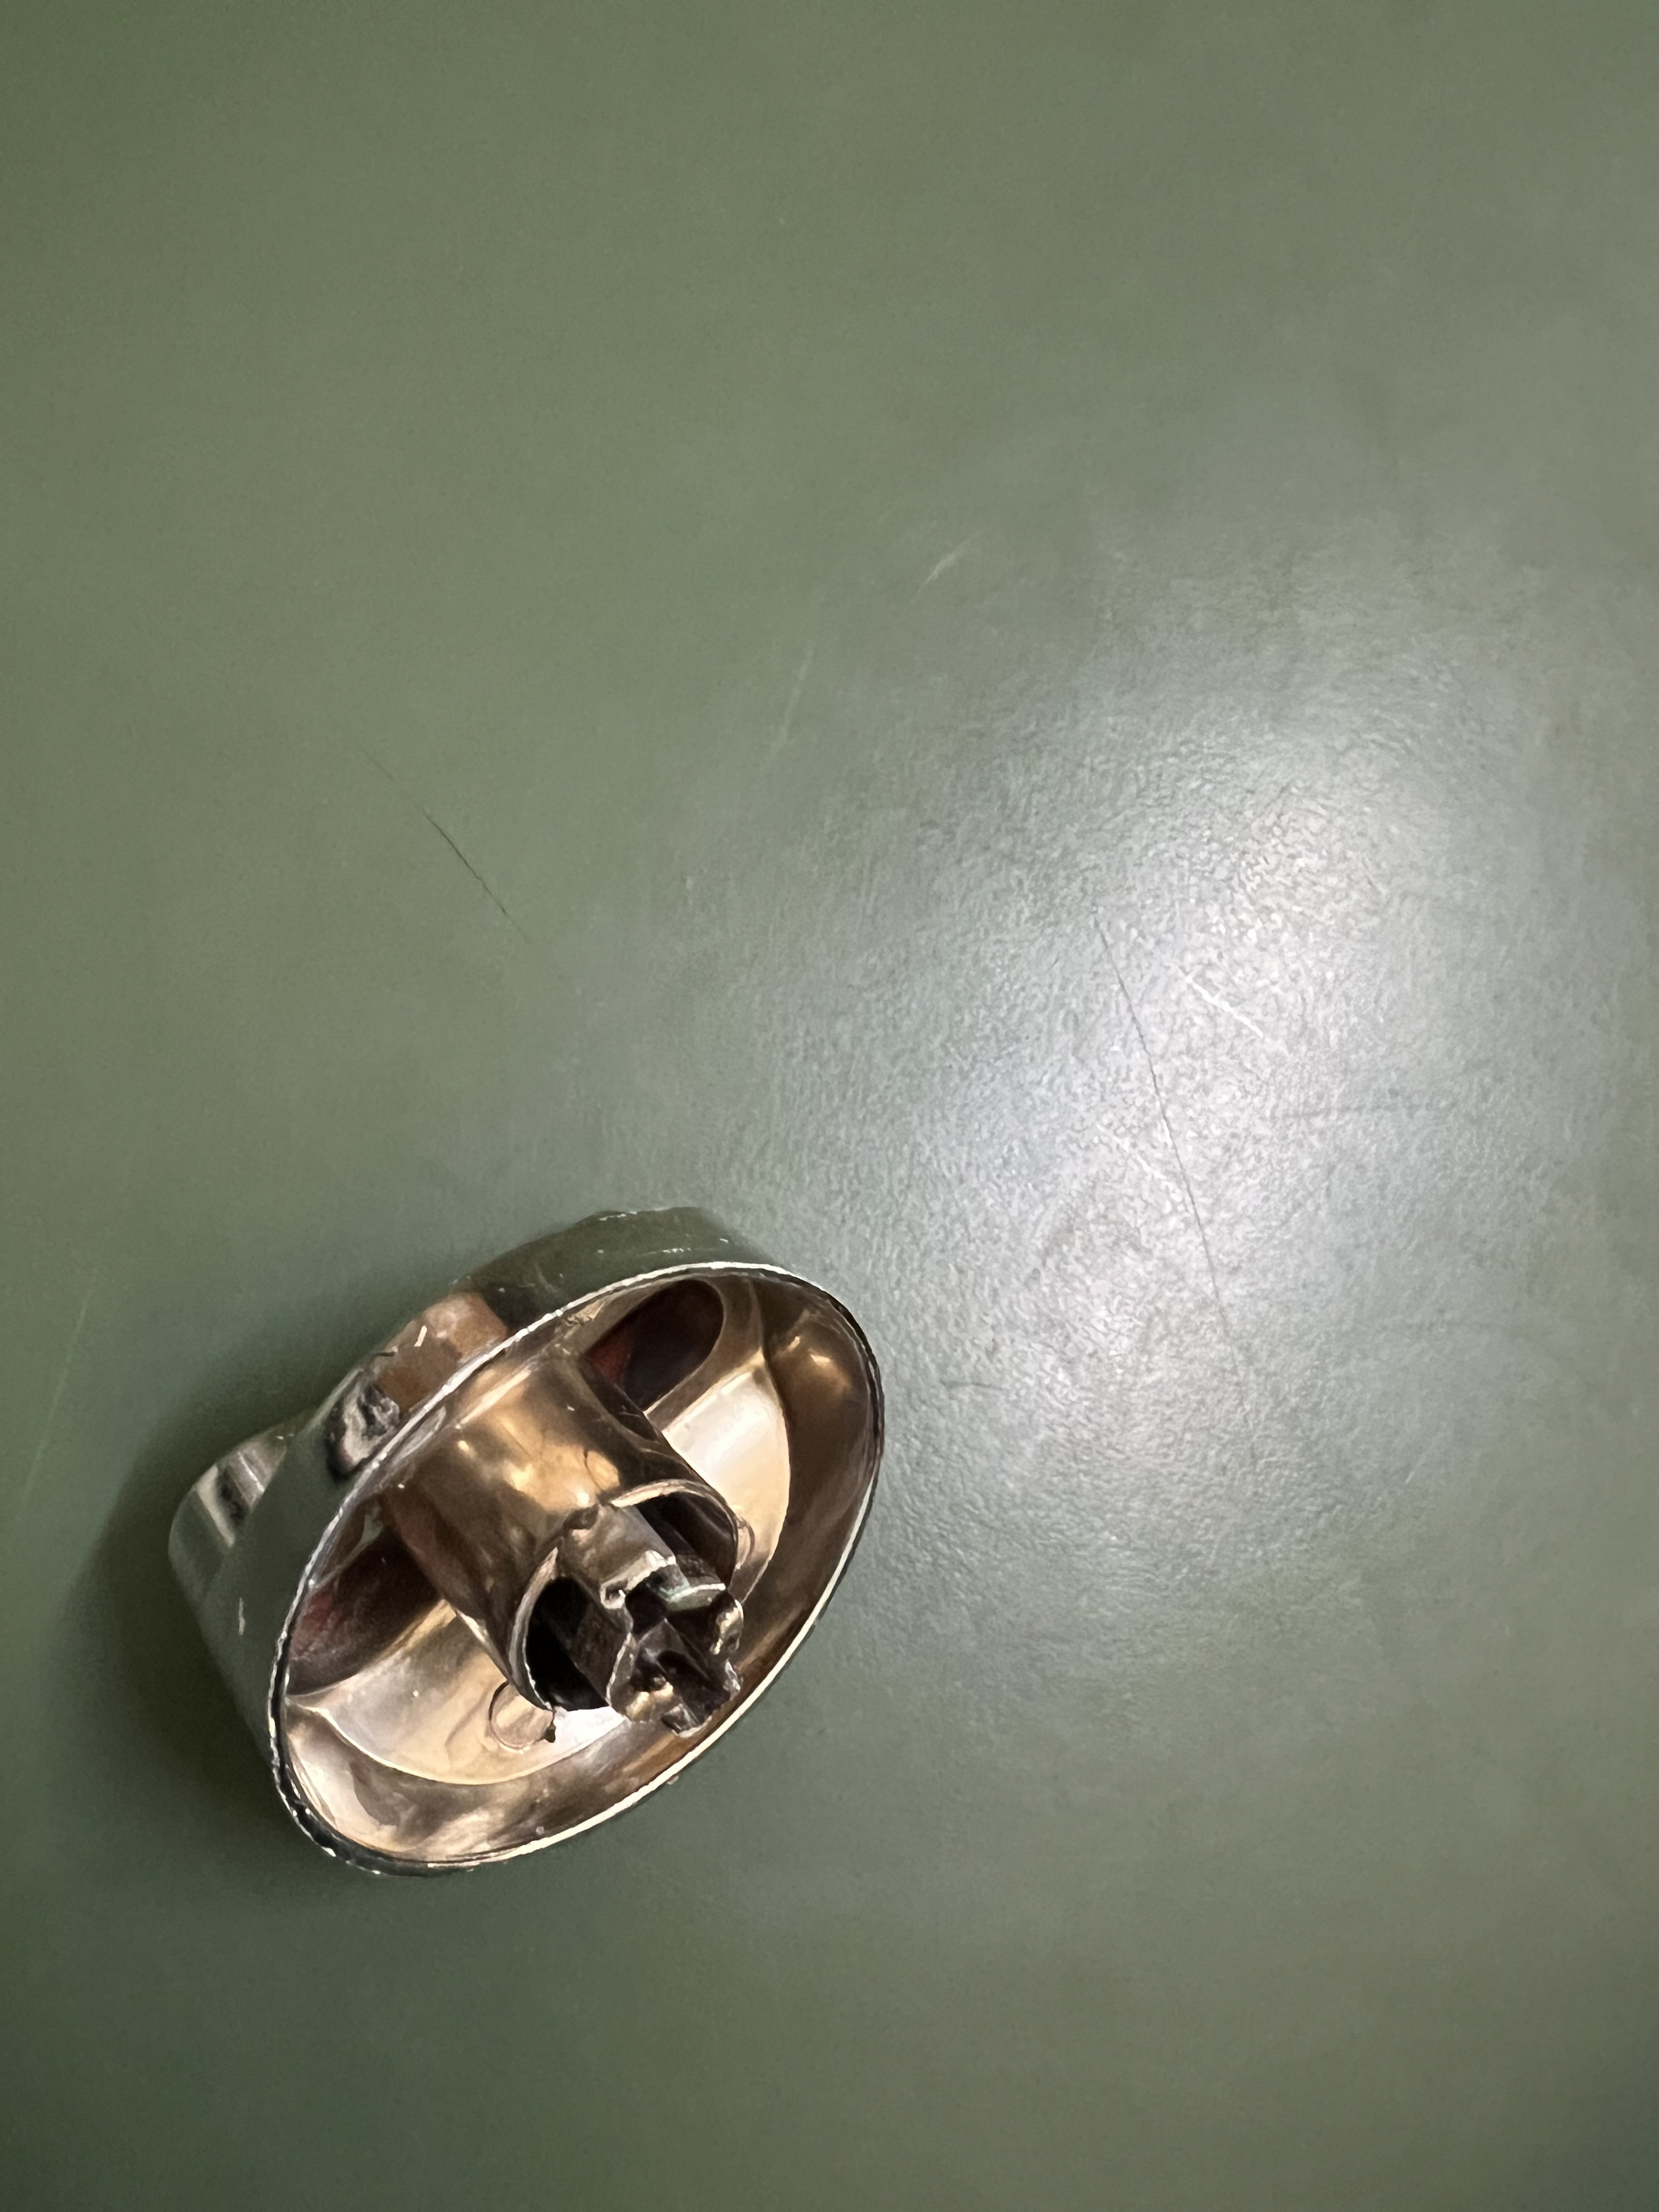regulator: (141, 1155, 889, 1912)
